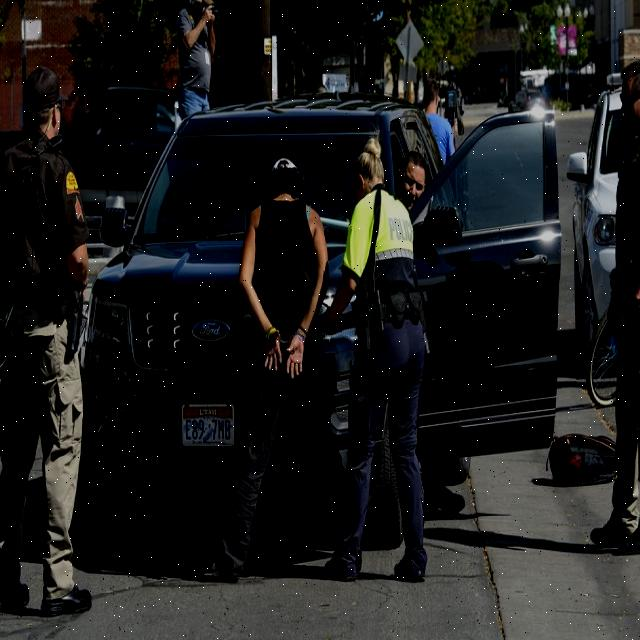police: (0, 56, 96, 640), (326, 125, 442, 593), (586, 51, 640, 574)
